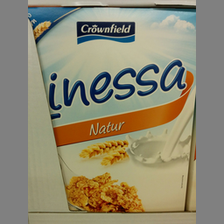cereal: (29, 8, 197, 210)
